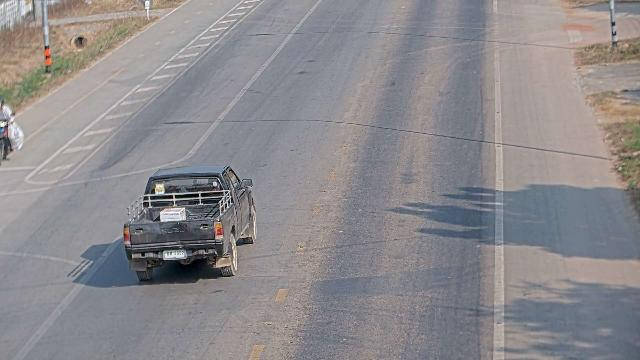pickup-truck: (122, 164, 257, 281)
